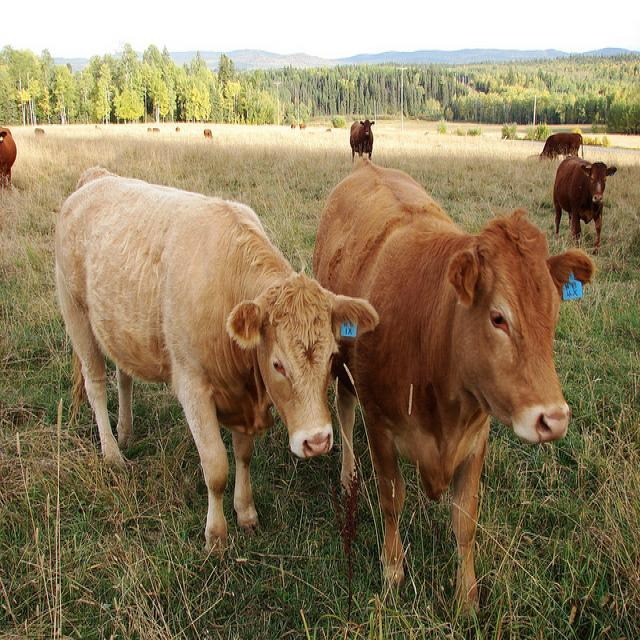cow: (312, 151, 595, 615), (50, 170, 380, 550), (552, 155, 616, 247), (537, 131, 582, 160), (0, 124, 17, 188), (347, 117, 374, 156), (202, 127, 212, 137), (298, 121, 305, 127), (289, 121, 296, 127), (174, 124, 179, 131)
